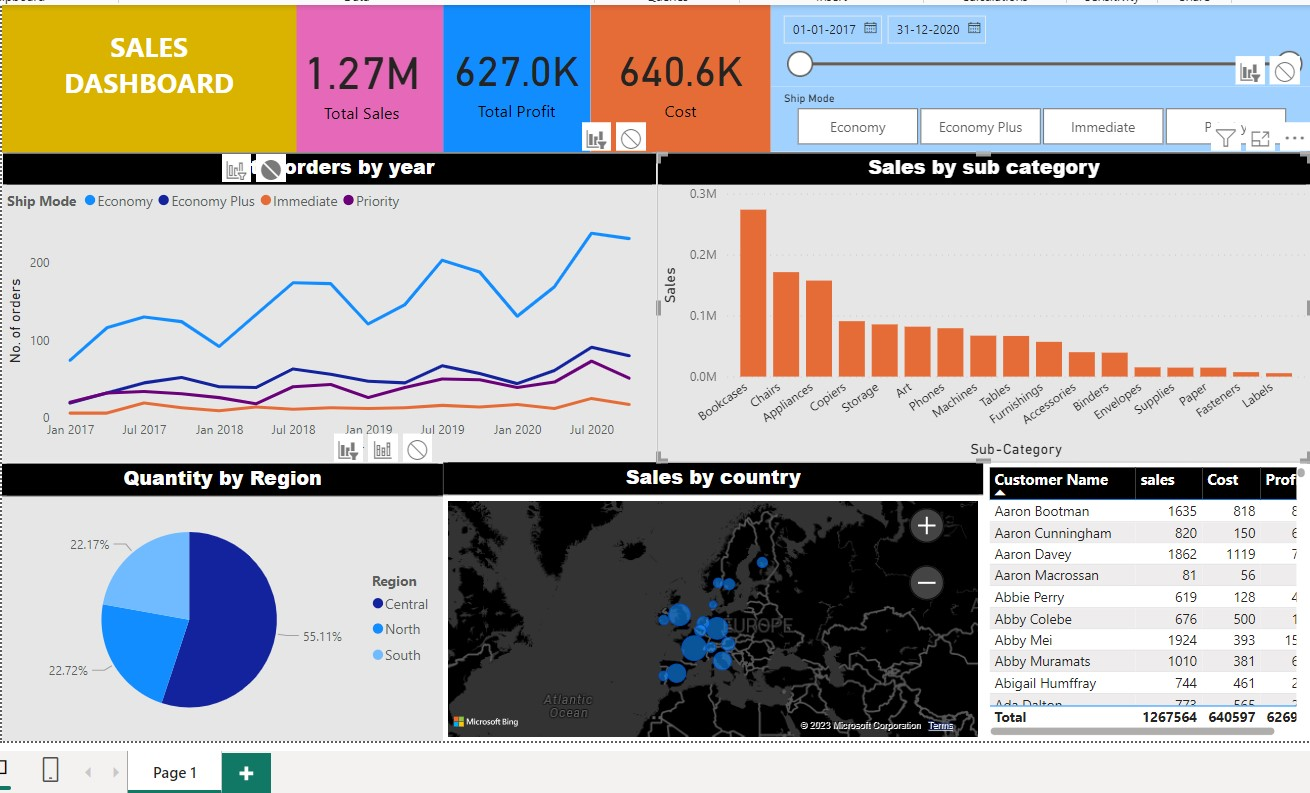

What the dashboard file says about the page in this screenshot:
{"tool":"powerbi","page":{"name":"Page 1","canvas":[1280,720],"ordinal":0},"visuals":[{"type":"card","fields":{"Values":["List of Orders.Sales"]},"box":[272,0,160,144],"z":0},{"type":"card","fields":{"Values":["List of Orders.Profit"]},"box":[432,0,144,144],"z":1000},{"type":"card","fields":{"Values":["List of Orders.Cost"]},"box":[576,0,176,144],"z":2000},{"type":"tableEx","fields":{"Values":["List of Orders.Customer Name","List of Orders.Sales","List of Orders.Cost","List of Orders.Profit"]},"box":[959.6,447.4,320.3,272.6],"z":3000},{"type":"clusteredColumnChart","title":"Sales by sub category","fields":{"Y":["List of Orders.Sales"],"Category":["List of Orders.Sub-Category"]},"box":[640,144,640,304],"z":4000},{"type":"slicer","fields":{"Values":["List of Orders.Order Date"]},"box":[752,0,528,80],"z":5000},{"type":"lineChart","title":"Total orders by year","fields":{"Category":["List of Orders.Order Date.Variation.Date Hierarchy.Year","List of Orders.Order Date.Variation.Date Hierarchy.Quarter"],"Y":["List of Orders.Order ID"],"Series":["List of Orders.Ship Mode"]},"box":[0,144.2,640.5,303.2],"z":6000},{"type":"pieChart","title":"Quantity by Region","fields":{"Y":["List of Orders.Quantity"],"Category":["List of Orders.Region"]},"box":[0,448.6,431.5,271.4],"z":7000},{"type":"map","title":"Sales by country","fields":{"Category":["List of Orders.Country"],"Size":["List of Orders.Sales"]},"box":[432,448,528,272],"z":8000},{"type":"slicer","fields":{"Values":["List of Orders.Ship Mode"]},"box":[752,80,528,64],"z":9000},{"type":"textbox","box":[0,0,288,144],"z":10000}]}

Visuals, with their boxes in screenshot pixels (x1, y1, x2, y2):
card - List of Orders.Sales: 281:7:443:152
card - List of Orders.Profit: 443:7:588:152
card - List of Orders.Cost: 588:7:766:152
tableEx - List of Orders.Customer Name x List of Orders.Sales: 975:458:1299:734
"Sales by sub category" clusteredColumnChart: 653:152:1299:459
slicer - List of Orders.Order Date: 766:7:1299:88
"Total orders by year" lineChart: 7:152:653:458
"Quantity by Region" pieChart: 7:460:442:734
"Sales by country" map: 443:459:976:734
slicer - List of Orders.Ship Mode: 766:88:1299:152
textbox: 7:7:297:152
